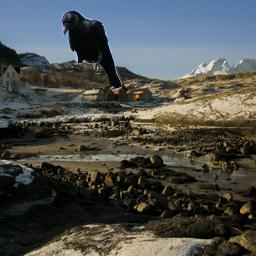Crow: (61, 10, 122, 92)
